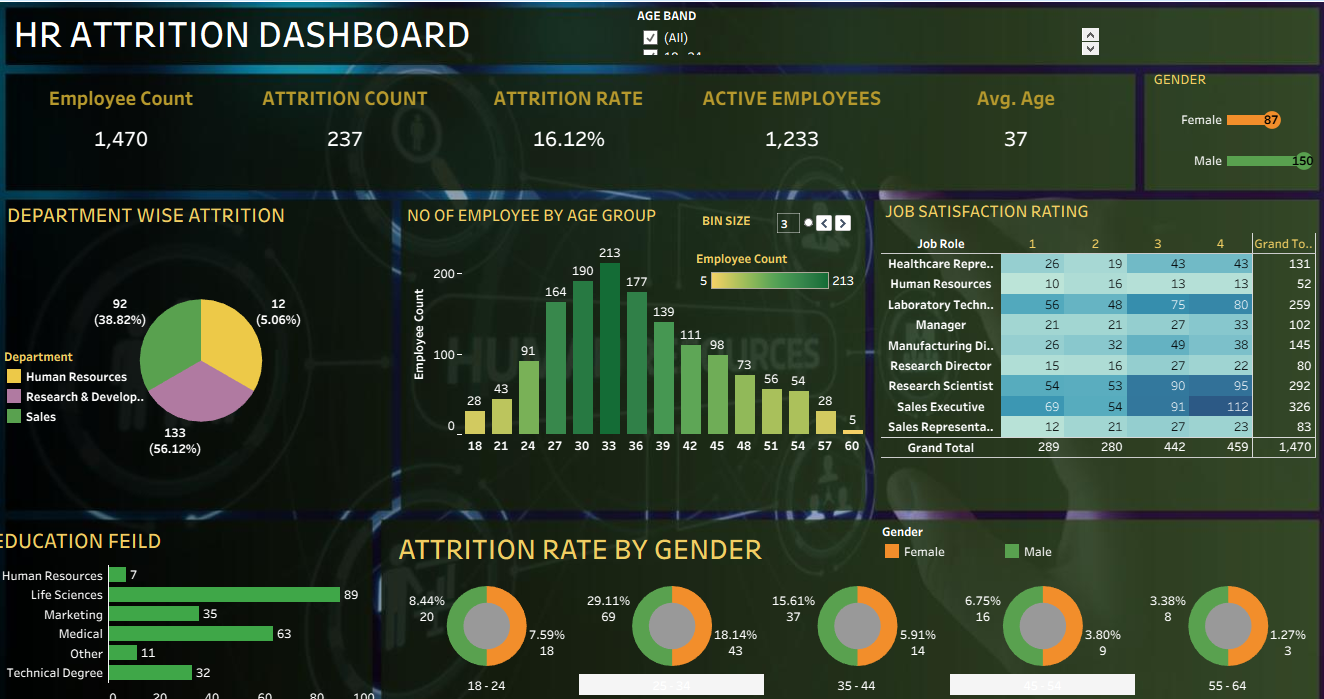

The page's visual inventory and layout, read from the dashboard file:
{"tool":"tableau","page":{"name":"Dashboard 2","canvas":[1000,1000],"units":"permille","ordinal":0},"visuals":[{"type":"image","param":"Image/HR background.pptx.jpg","box":[7,10,986,980]},{"type":"filter","title":"ATTRITION RATE BY GENDER","param":"[federated.1deoqea1w40bo917puj1r1o9apxk].[none:Calculation_161003748134371336:nk","box":[481,21.2,342.2,60]},{"type":"text","box":[17.3,23.8,507.8,58.8]},{"type":"worksheet","title":"KPI","mark":"Automatic","box":[15.6,81.2,829.6,140]},{"type":"worksheet","title":" GENDER","mark":"Automatic","rows":["Gender"],"cols":["Calculation_161003748068782085","Calculation_161003748068782085"],"box":[859,95,126.3,143.8]},{"type":"worksheet","title":"JOB SATISFACTION RATING","mark":"Square","rows":["JobRole"],"cols":["JobSatisfaction"],"box":[662.1,257.5,322.4,327.5]},{"type":"worksheet","title":"DEPARTMENT WISE ATTRITION","mark":"Pie","box":[11.2,258.8,293.2,357.5]},{"type":"worksheet","title":"NO OF EMPLOYEE BY AGE GROUP","mark":"Automatic","rows":["EmployeeCount"],"cols":["Age (bin)"],"box":[308,262.5,343.4,318.8]},{"type":"parameter","param":"[Parameters].[Parameter 1]","box":[529.4,275,112.5,43.8]},{"type":"legend","title":"NO OF EMPLOYEE BY AGE GROUP","param":"[federated.1deoqea1w40bo917puj1r1o9apxk].[sum:EmployeeCount:qk]","box":[525.1,325,121.1,76.2]},{"type":"legend","title":"DEPARTMENT WISE ATTRITION","param":"[federated.1deoqea1w40bo917puj1r1o9apxk].[none:Department:nk]","box":[12.1,447.5,111.6,97.5]},{"type":"worksheet","title":"EDUCATION FEILD ","mark":"Automatic","rows":["EducationField"],"cols":["Calculation_161003748068782085"],"box":[0,665,288.1,268.8]},{"type":"legend","title":"ATTRITION RATE BY GENDER","param":"[federated.1deoqea1w40bo917puj1r1o9apxk].[none:Gender:nk]","box":[662.9,666.2,231.8,72.5]},{"type":"worksheet","title":"ATTRITION RATE BY GENDER","mark":"Pie","rows":["Calculation_161003748135489546","Calculation_161003748135489546"],"cols":["Calculation_161003748134371336"],"box":[300.9,670,687.1,211.2]}]}

Visuals, with their boxes on the dashboard's canvas, which has no fixed pixel size, in thousandths of its width and height (x1, y1, x2, y2). These are canvas units, not pixel positions in the 1324x699 screenshot, which may show the page scaled, cropped or inside an application window:
image: pyautogui.locateOnScreen(7, 10, 993, 990)
"ATTRITION RATE BY GENDER" filter: pyautogui.locateOnScreen(481, 21, 823, 81)
text: pyautogui.locateOnScreen(17, 24, 525, 83)
"KPI" worksheet: pyautogui.locateOnScreen(16, 81, 845, 221)
" GENDER" worksheet: pyautogui.locateOnScreen(859, 95, 985, 239)
"JOB SATISFACTION RATING" worksheet (Square marks): pyautogui.locateOnScreen(662, 258, 984, 585)
"DEPARTMENT WISE ATTRITION" worksheet (Pie marks): pyautogui.locateOnScreen(11, 259, 304, 616)
"NO OF EMPLOYEE BY AGE GROUP" worksheet: pyautogui.locateOnScreen(308, 262, 651, 581)
parameter: pyautogui.locateOnScreen(529, 275, 642, 319)
"NO OF EMPLOYEE BY AGE GROUP" legend: pyautogui.locateOnScreen(525, 325, 646, 401)
"DEPARTMENT WISE ATTRITION" legend: pyautogui.locateOnScreen(12, 448, 124, 545)
"EDUCATION FEILD " worksheet: pyautogui.locateOnScreen(0, 665, 288, 934)
"ATTRITION RATE BY GENDER" legend: pyautogui.locateOnScreen(663, 666, 895, 739)
"ATTRITION RATE BY GENDER" worksheet (Pie marks): pyautogui.locateOnScreen(301, 670, 988, 881)
